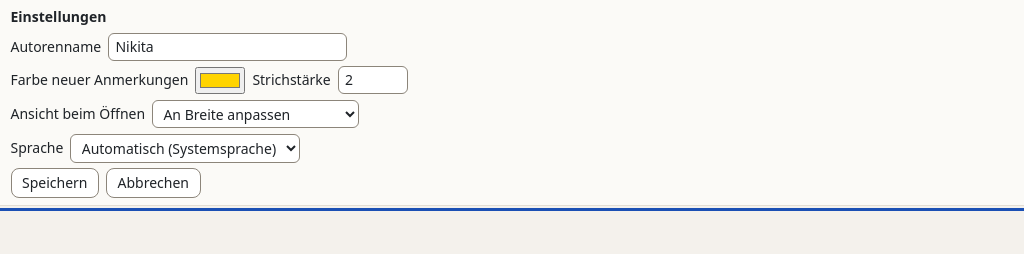
it: Einstellungen › laesst die Stores unveraendert, wenn das Sichern fehlschlaegt
Replace the text in the field with test id "einstellungen-autor" with "Anna" at point(228, 47), box [108,33,347,61]
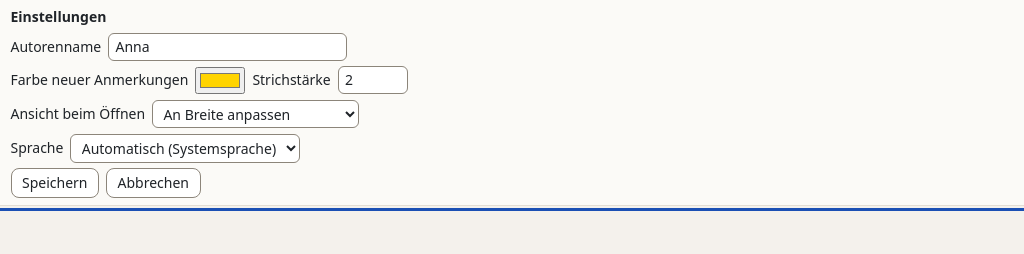
Click the button with test id "einstellungen-speichern" at point(55, 183), box [10,168,99,198]
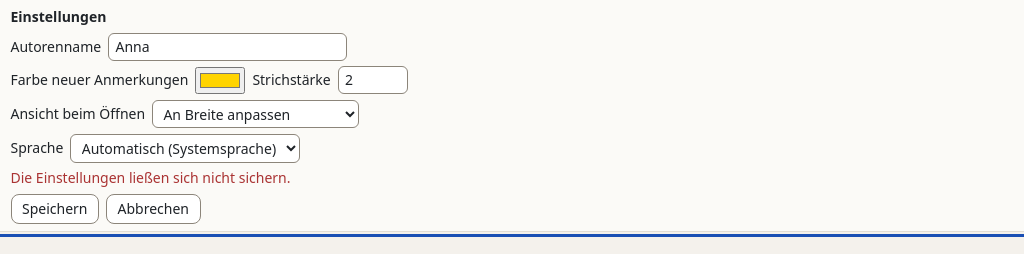
Expected: the button with test id "einstellungen-speichern" is enabled, [10,194,99,224]
Result: the message shows "nicht sichern" at [10,168,290,187]
